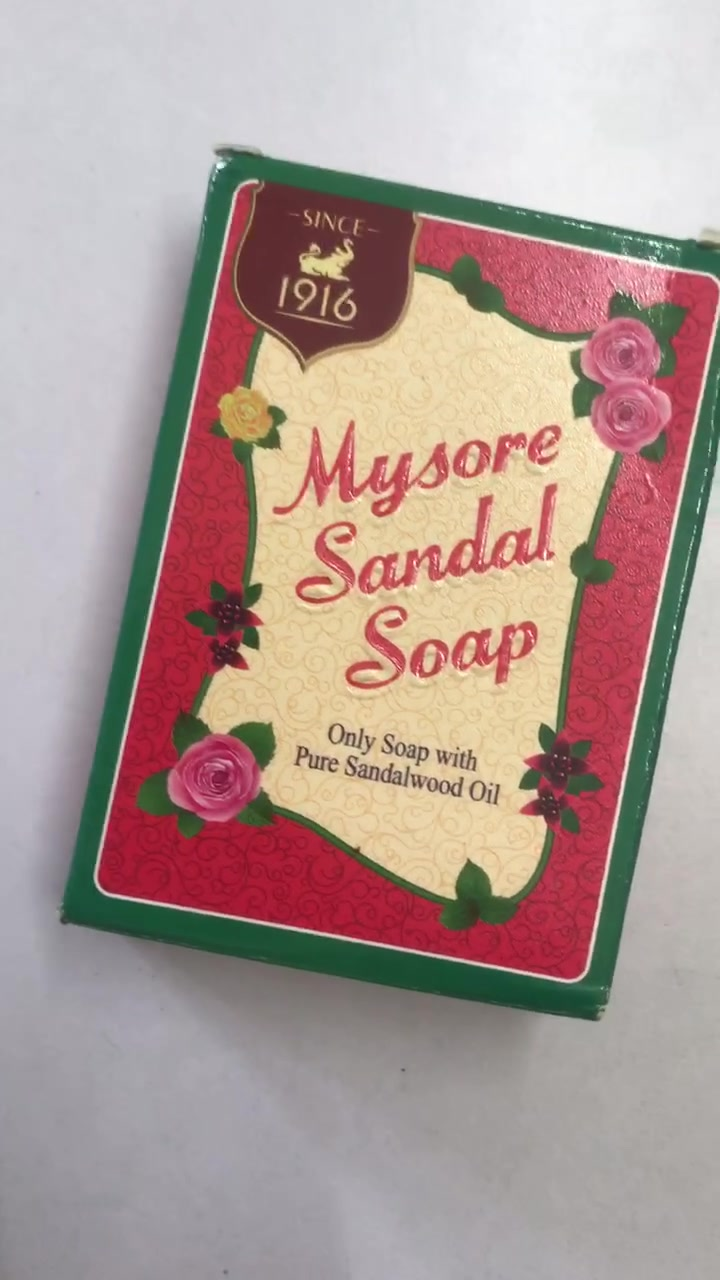mysore sandal soap: (73, 137, 701, 1010)
